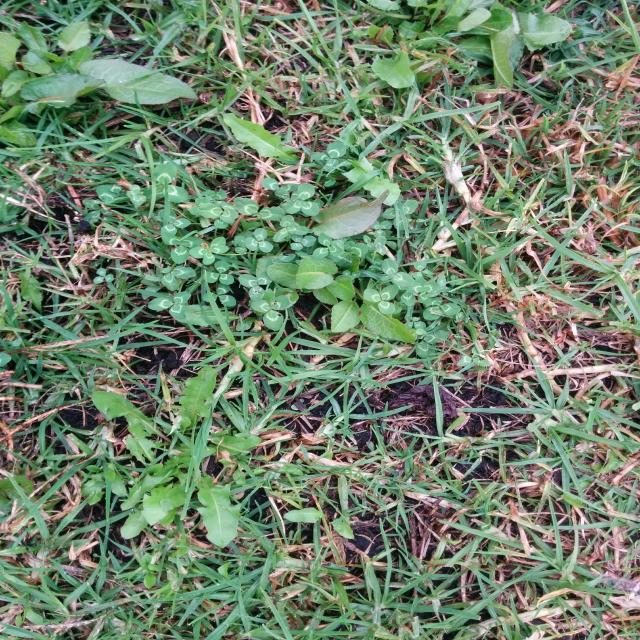Four Leaf Clover: (189, 237, 229, 265)
